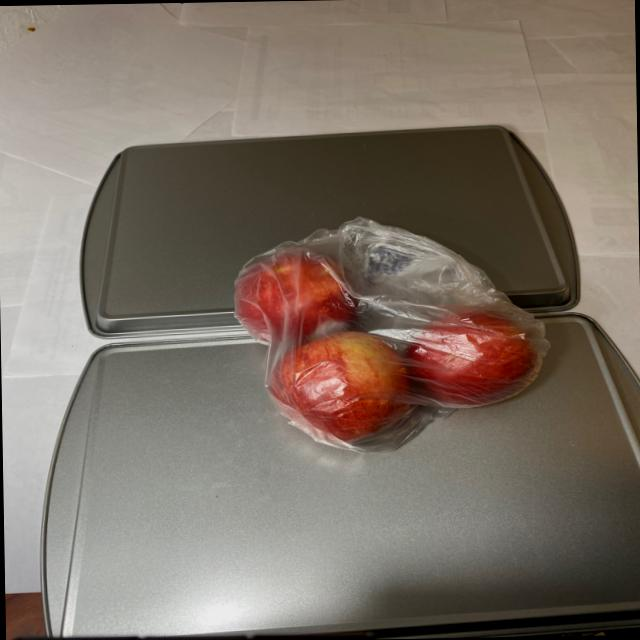apple: (224, 234, 546, 446)
